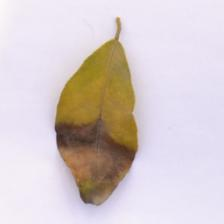black spot: (44, 112, 142, 206)
